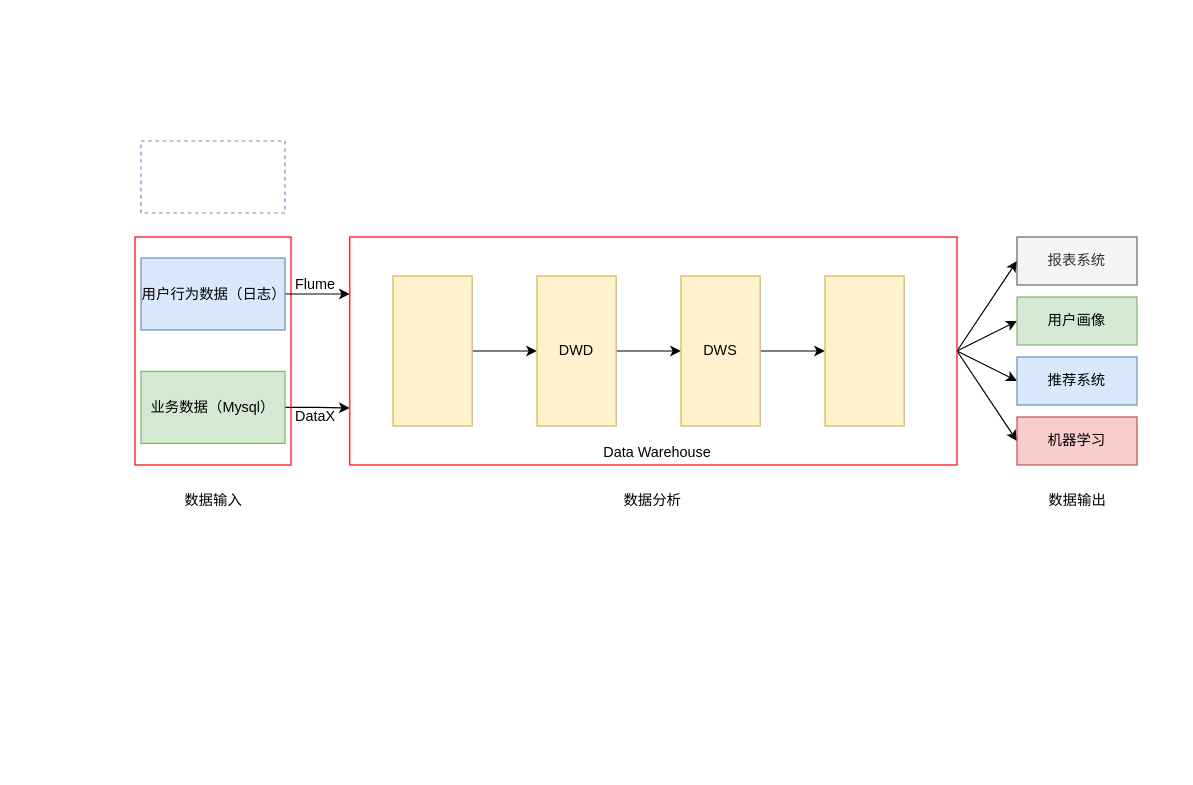
Some shapes in this 1193 by 785 pixel diagram are drawn without their labels. Here are the shapes that lost their labels. From the top down, the centre of each, then its label:
At [212,176]: "爬虫数据".
At [432,350]: "ODS".
At [864,350]: "ADS".
